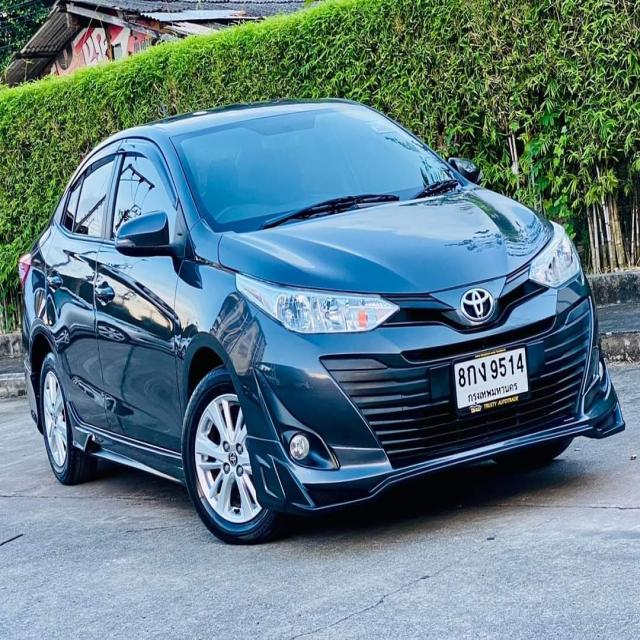license_plate: (447, 342, 533, 417)
